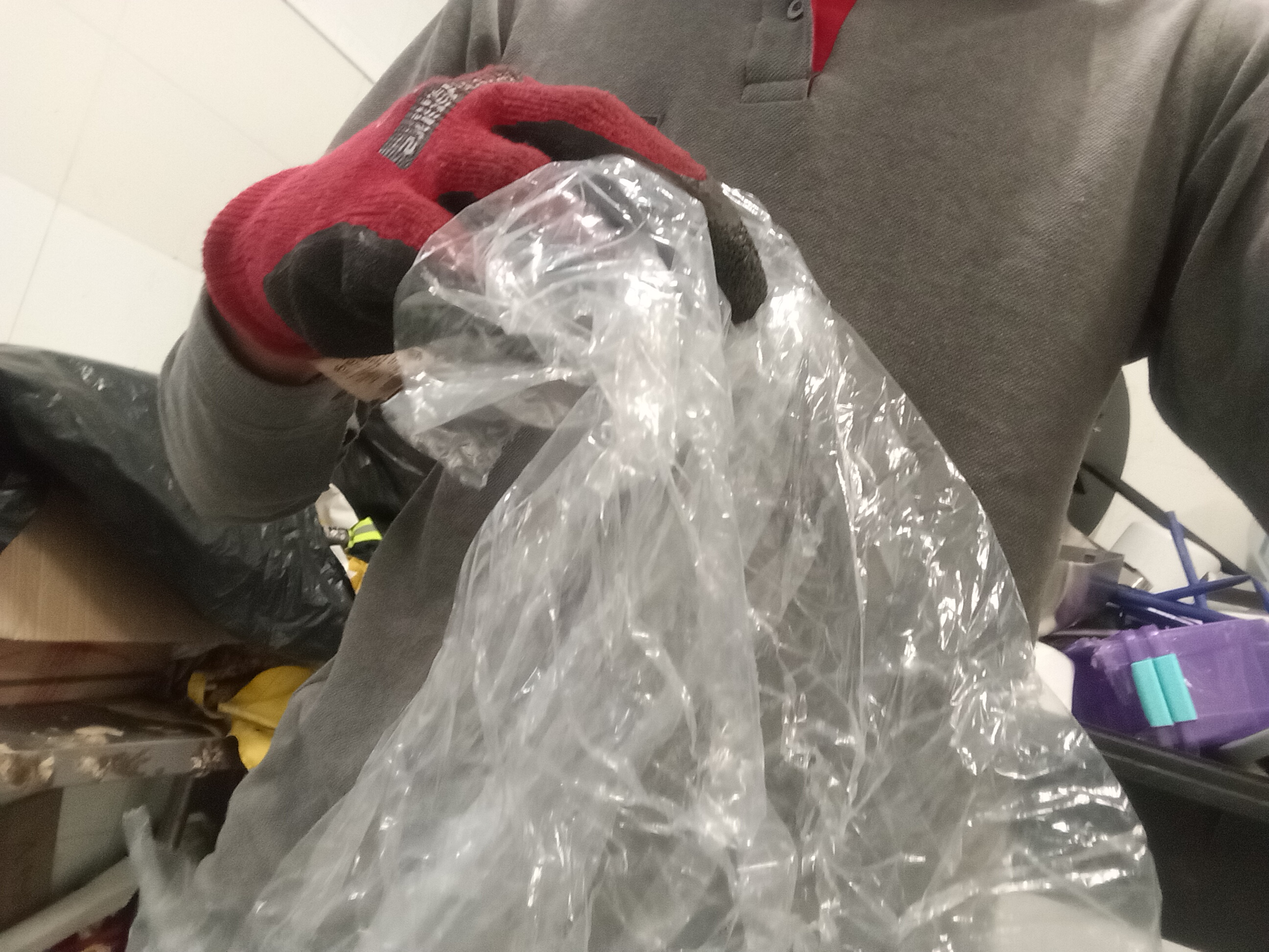Plastico: (248, 158, 1160, 952)
